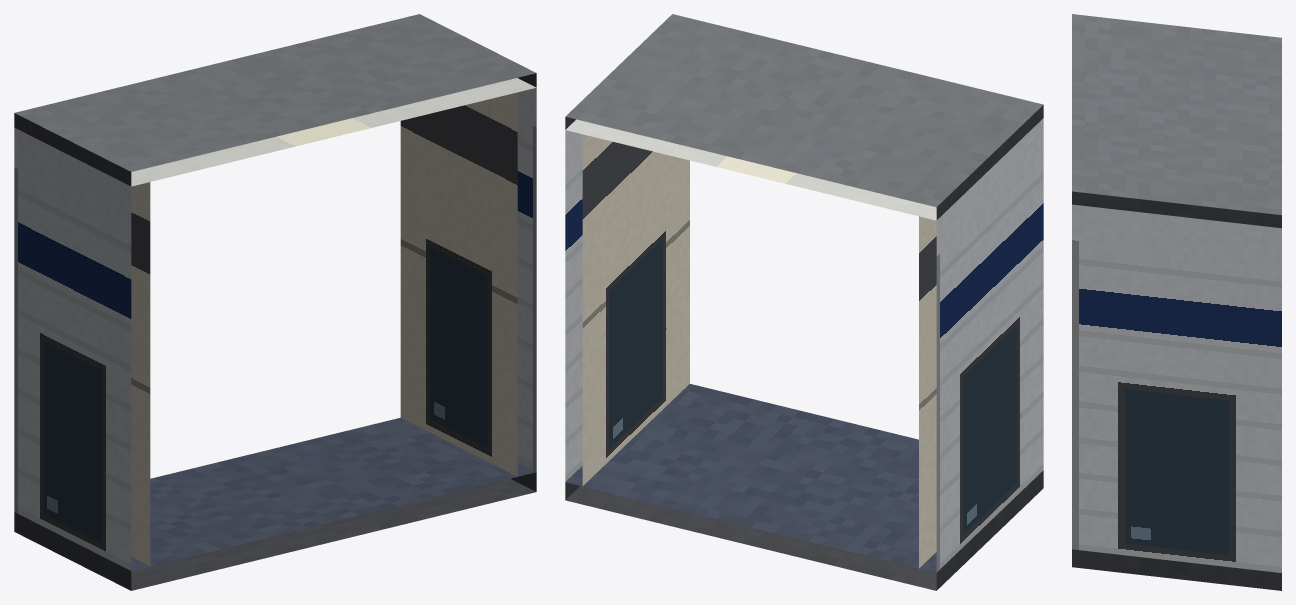
File: airport_jet_bridge_slope_8_0_body.obj
3 renders of one model, left to right at view 1: azimuth 30°, elevation 25°; view 2: azimuth 150°, elevation 25°; view 3: azimuth 270°, elevation 25°, orthographic. The views are drawn at different scales.
Visible parts, largest first — view 1: airport_jet_bridge_slope_8_0_body; view 2: airport_jet_bridge_slope_8_0_body; view 3: airport_jet_bridge_slope_8_0_body.
Boxes of the visible parts, box(x1,y1,x2,y2) form: airport_jet_bridge_slope_8_0_body: box(14, 14, 536, 590); airport_jet_bridge_slope_8_0_body: box(565, 14, 1043, 590); airport_jet_bridge_slope_8_0_body: box(1072, 14, 1281, 590).
Bounding box in the file's own units: 2 × 2.1 × 1.
